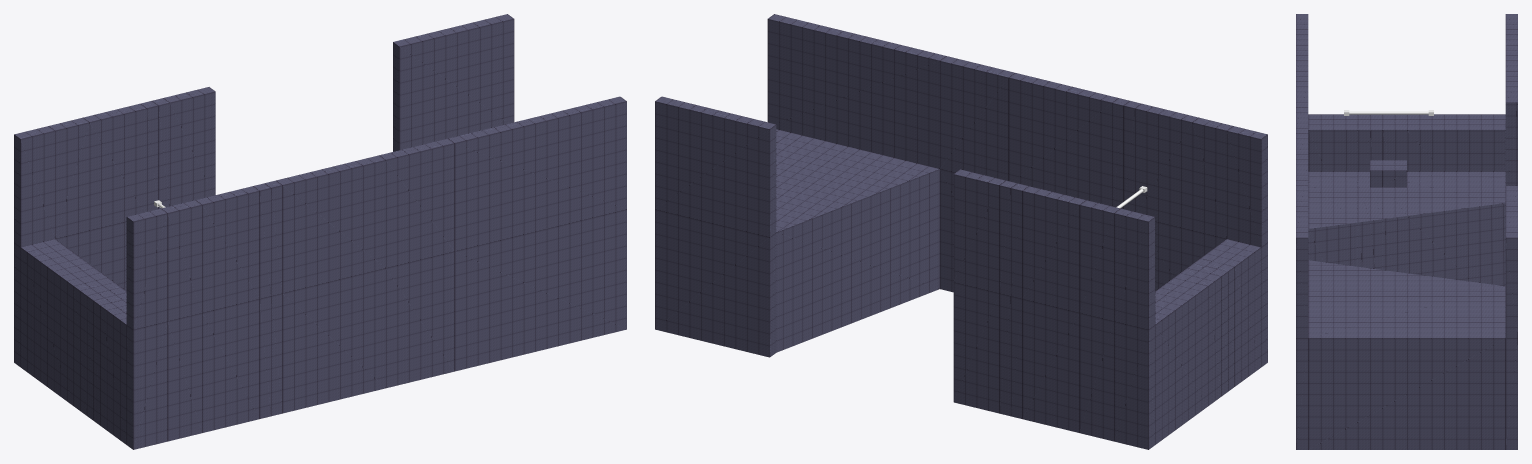
The model's file is Module_5.fbx.
3 renders of one model, left to right at view 1: azimuth 30°, elevation 25°; view 2: azimuth 150°, elevation 25°; view 3: azimuth 270°, elevation 25°, orthographic. The views are drawn at different scales.
Visible parts, largest first — view 1: Module_5; view 2: Module_5; view 3: Module_5, Swing_Bar.
Boxes of the visible parts, box(x1,y1,x2,y2) form: Module_5: box(14, 14, 626, 449); Module_5: box(655, 14, 1267, 449); Module_5: box(1296, 14, 1517, 449); Swing_Bar: box(1344, 110, 1433, 115).
Bounding box in the file's own units: 4300 × 1900 × 1800.
Materials: 2 (1 with a texture image).
